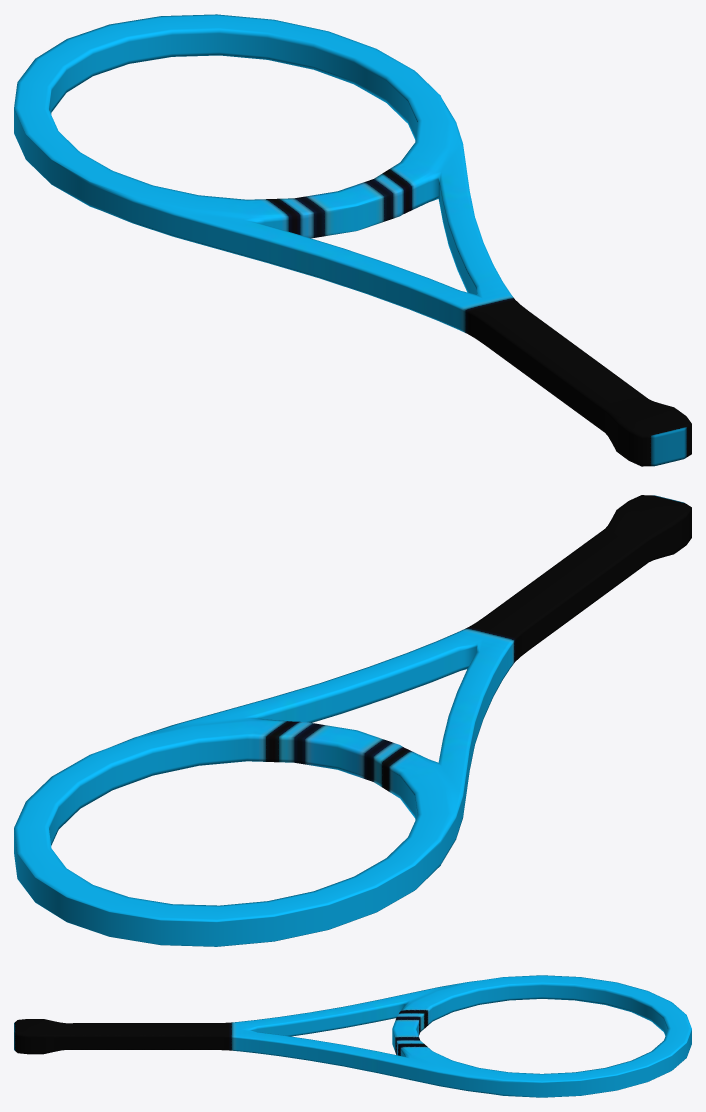
Rendered from raqueta.fbx.
3 views of the same model, one above another, from view 1: azimuth 30°, elevation 25°; view 2: azimuth 150°, elevation 25°; view 3: azimuth 270°, elevation 25° (orthographic). The views are drawn at different scales.
Parts seen in each view (by area): view 1: raqueta:polySurface2; view 2: raqueta:polySurface2; view 3: raqueta:polySurface2.
Boxes of the visible parts, bbox=[...] form: raqueta:polySurface2: bbox=[14, 14, 691, 466]; raqueta:polySurface2: bbox=[14, 495, 691, 946]; raqueta:polySurface2: bbox=[14, 975, 691, 1097].
Size of the model in its own units: 6.11 by 0.5185 by 16.32.
